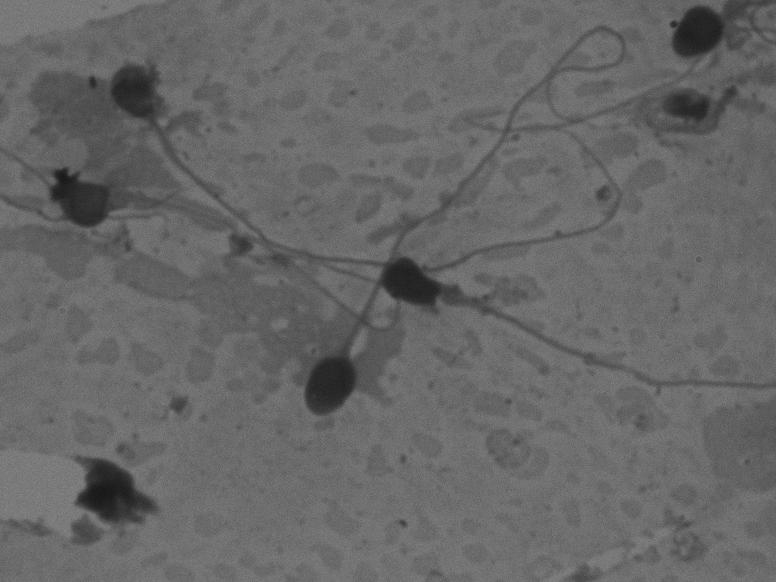Abnormal: (100, 53, 352, 319), (379, 251, 766, 399), (40, 169, 257, 272)
Normal: (286, 14, 645, 426)
